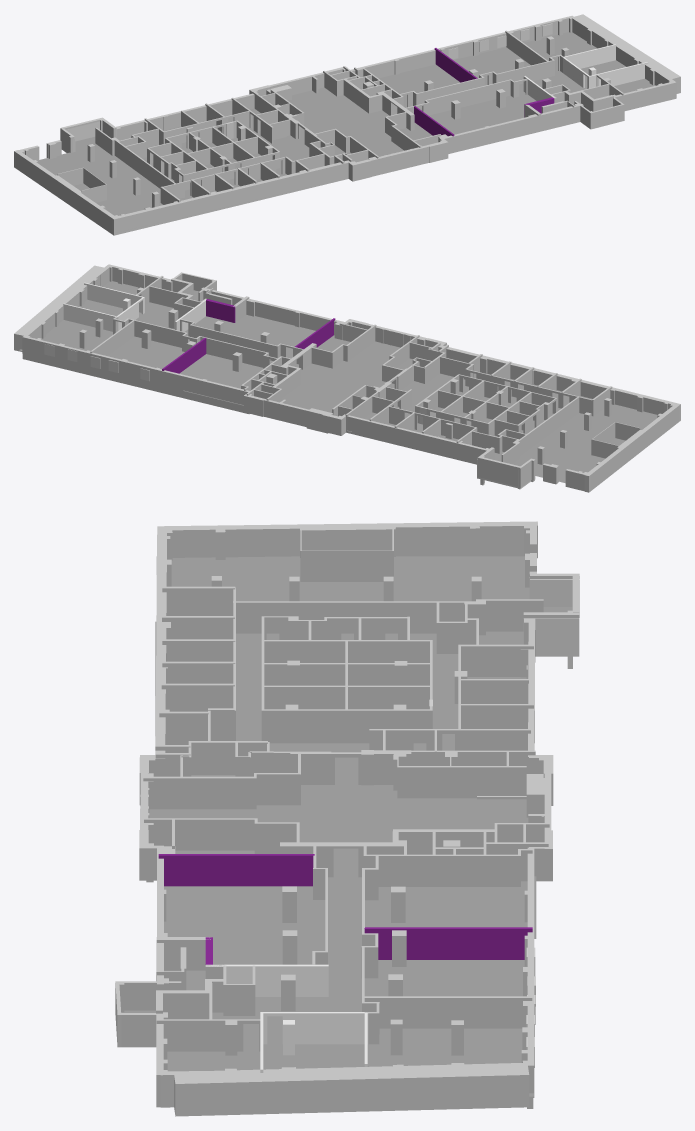
File: BushHouseFloor7.glb
3 views of the same model, one above another, from view 1: azimuth 30°, elevation 25°; view 2: azimuth 150°, elevation 25°; view 3: azimuth 270°, elevation 25° (orthographic). The views are drawn at different scales.
Visible parts, largest first — view 1: Plane.001, Plane, Cube.234, Plane.003, Cube.211, Cube.196, Cube.239, Cube.198, Cube.180, Cube.064, Cube.128, Cube.223 (+30 smaller); view 2: Plane.001, Plane, Plane.003, Cube.196, Cube.234, Cube.180, Cube.239, Cube.198, Cube.001, Cube.197, Cube.211, Cube.181 (+34 smaller); view 3: Plane.001, Plane, Plane.003, Cube.198, Cube.239, Cube.149, Cube.109, Cube.070, Cube.006, Cube.003, Cube.005, Cube.112 (+45 smaller).
Part boxes in pixels (x1,y1,x2,y2): Plane.001: [250, 69, 491, 156]; Plane: [416, 32, 653, 125]; Cube.234: [112, 160, 352, 235]; Plane.003: [37, 126, 262, 230]; Cube.211: [442, 103, 583, 153]; Cube.196: [350, 15, 573, 78]; Cube.239: [14, 150, 115, 233]; Cube.198: [572, 14, 680, 93]; Cube.180: [116, 93, 257, 140]; Cube.064: [425, 79, 510, 114]; Cube.128: [163, 157, 285, 198]; Cube.223: [366, 141, 445, 176]; Plane.001: [183, 322, 418, 431]; Plane: [19, 281, 281, 379]; Plane.003: [439, 378, 657, 483]; Cube.196: [22, 336, 249, 407]; Cube.234: [438, 345, 680, 421]; Cube.180: [344, 414, 488, 464]; Cube.239: [584, 403, 679, 492]; Cube.198: [14, 265, 106, 351]; Cube.001: [477, 447, 535, 487]; Cube.197: [22, 354, 249, 414]; Cube.211: [201, 287, 344, 335]; Cube.181: [244, 394, 342, 430]; Plane.001: [160, 777, 536, 938]; Plane: [164, 934, 533, 1096]; Plane.003: [156, 556, 529, 717]; Cube.198: [173, 1062, 529, 1116]; Cube.239: [159, 521, 537, 558]; Cube.149: [233, 601, 482, 633]; Cube.109: [264, 709, 432, 743]; Cube.070: [158, 854, 314, 886]; Cube.006: [365, 854, 520, 886]; Cube.003: [364, 996, 532, 1028]; Cube.005: [364, 927, 532, 959]; Cube.112: [264, 685, 429, 709].
Bounding box in the file's own units: 96.2 × 4.44 × 33.54.
